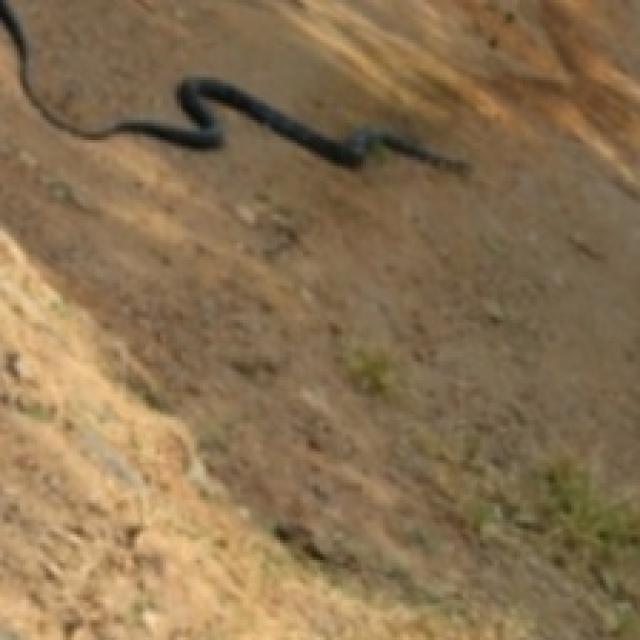king cobra: (0, 0, 469, 171)
